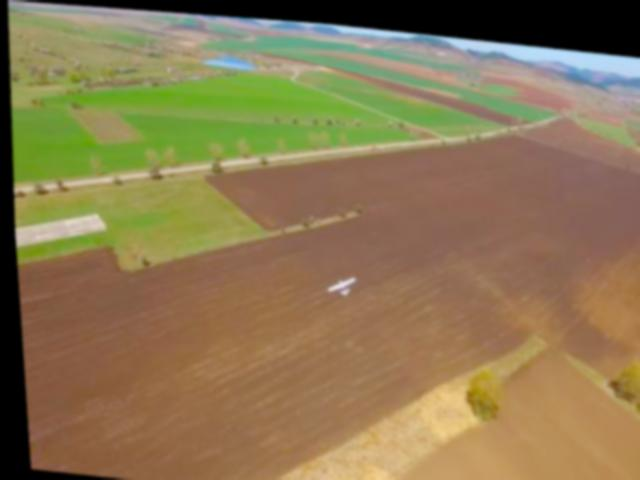uav: (319, 262, 359, 301)
